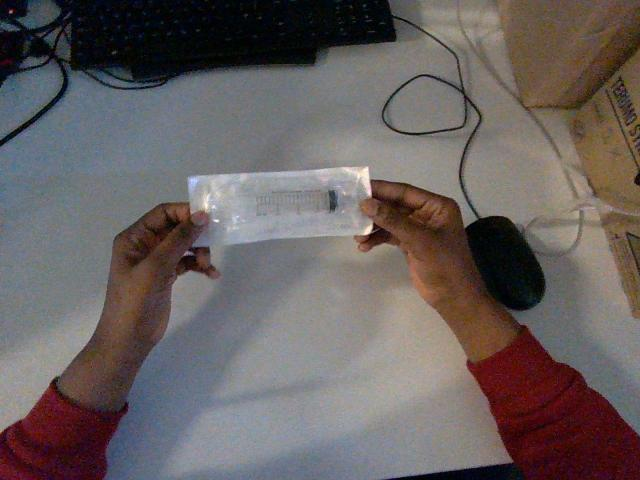syringe: (188, 167, 372, 245)
